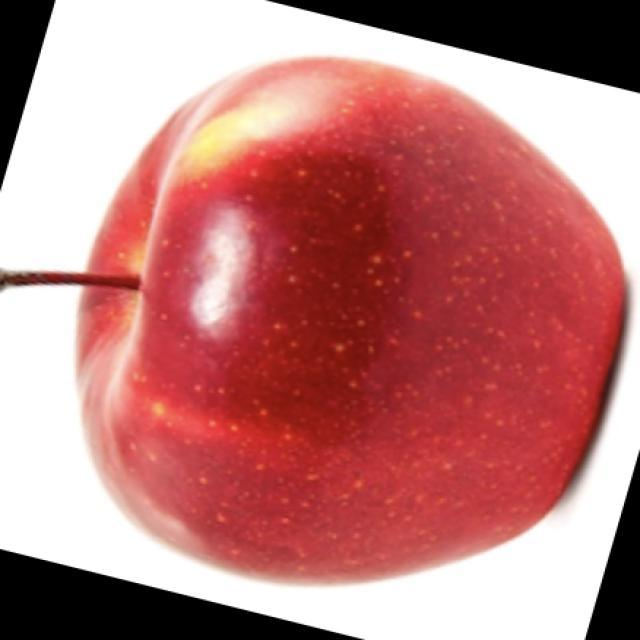Apple: (0, 54, 629, 585)
